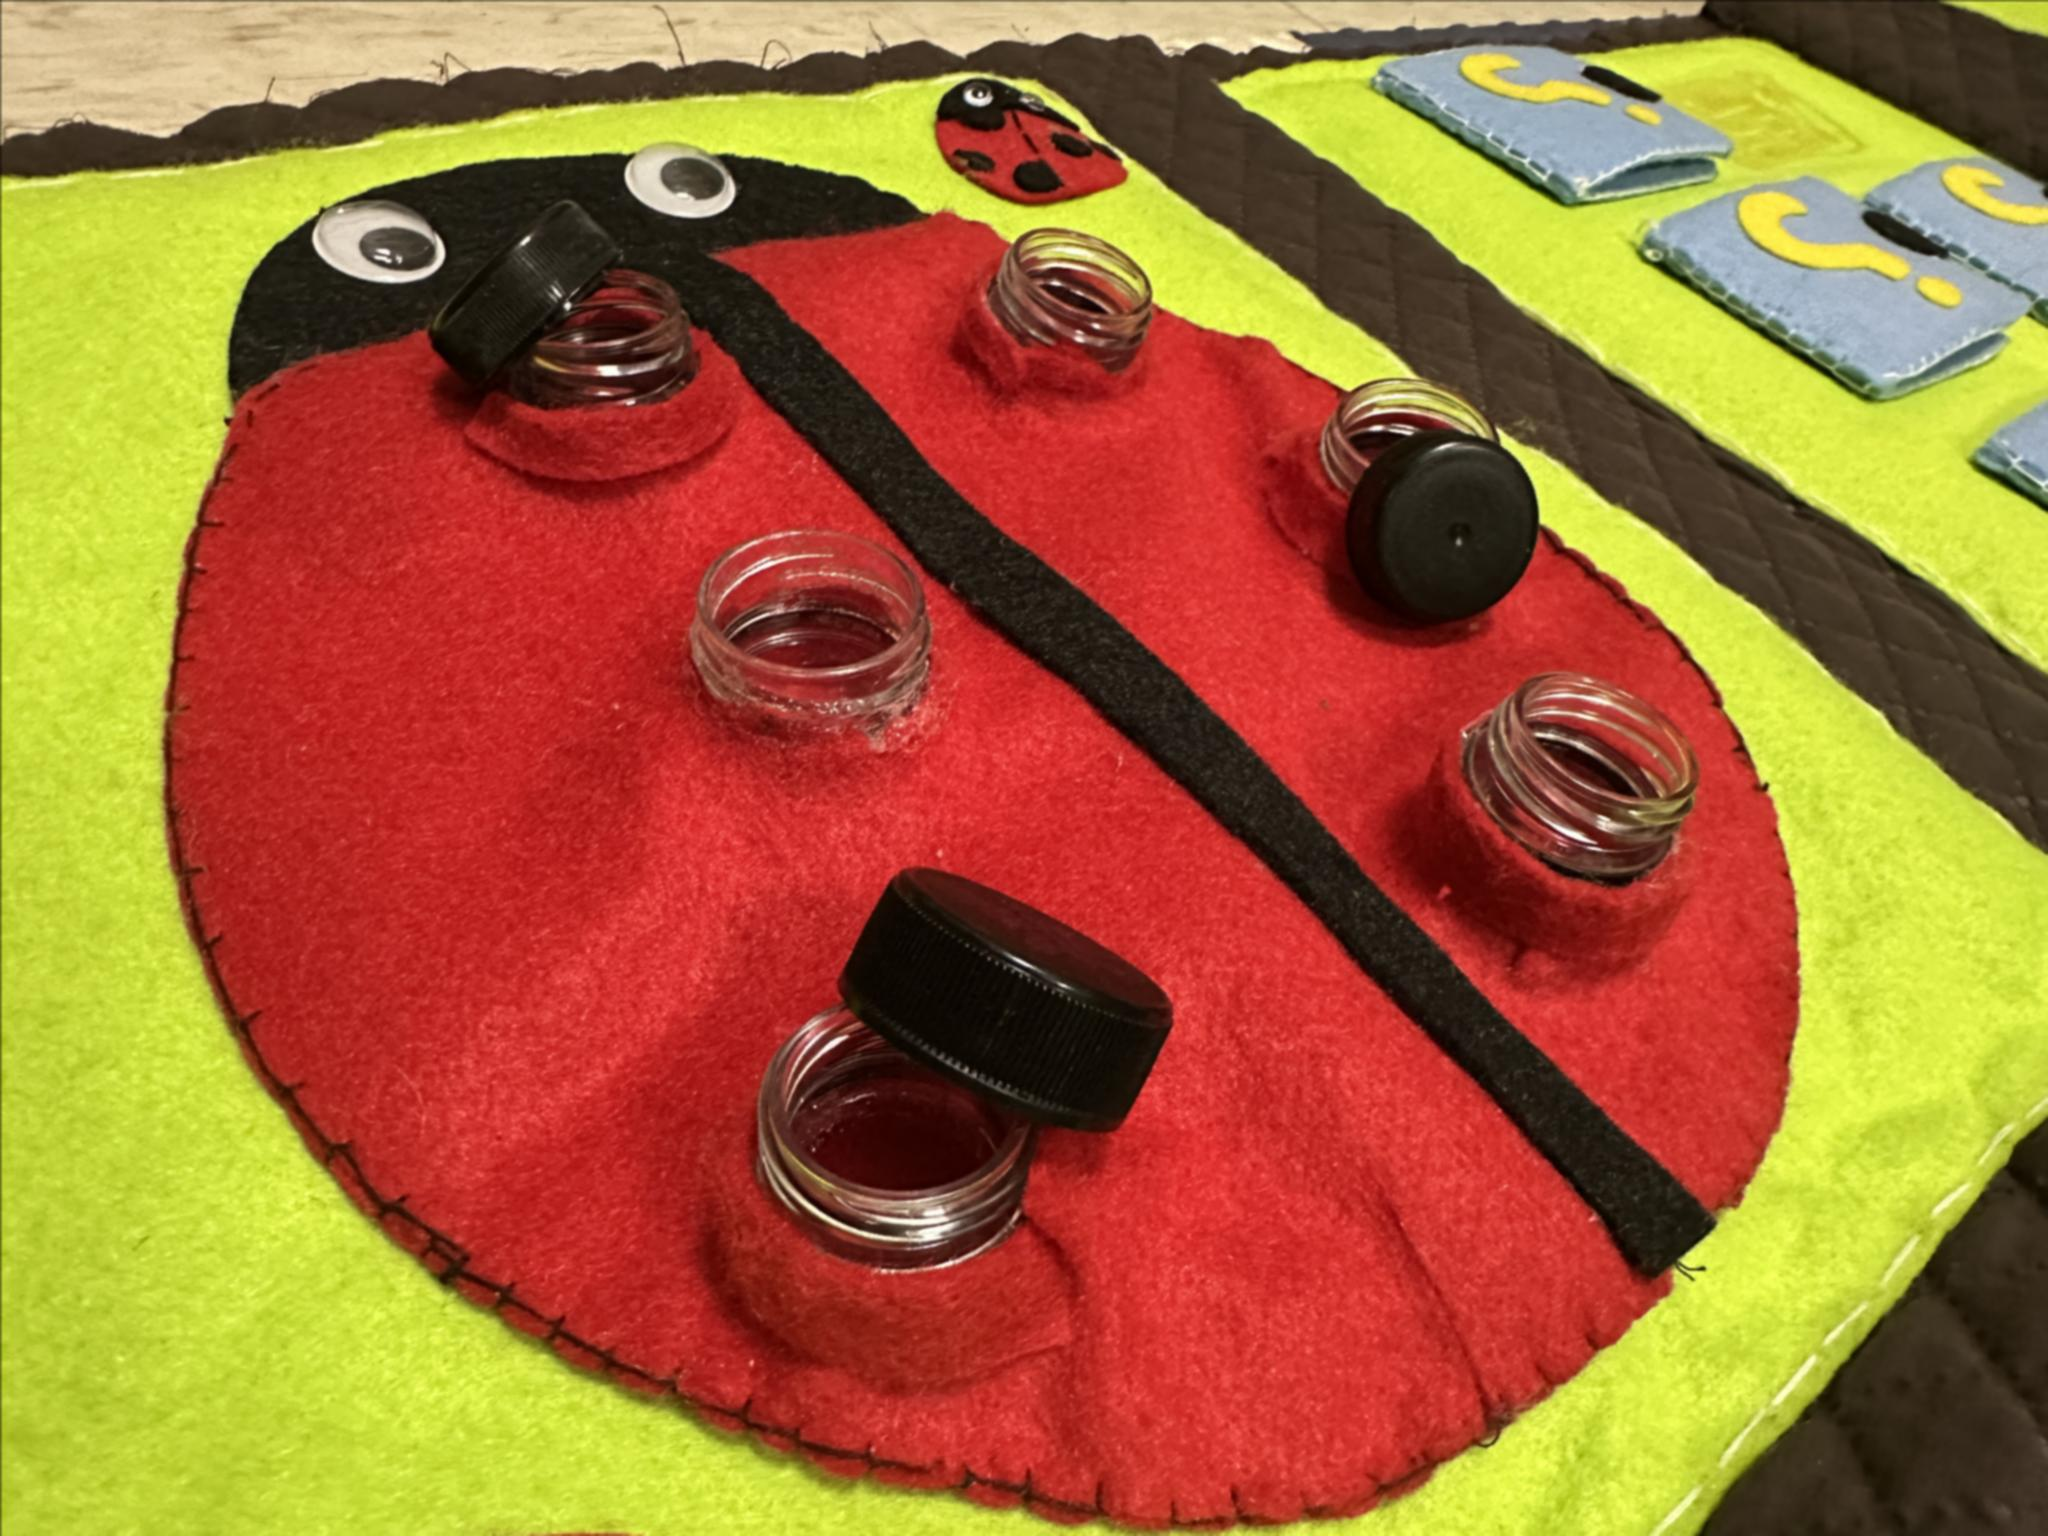cap_ng: (701, 862, 1187, 1362), (421, 194, 714, 502), (1243, 366, 1540, 644)
